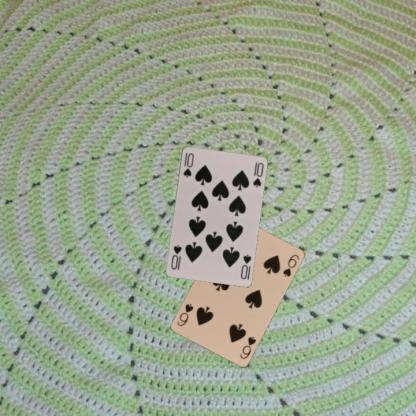10s: (238, 251, 253, 280), (180, 150, 195, 178)
6s: (238, 333, 257, 360)
